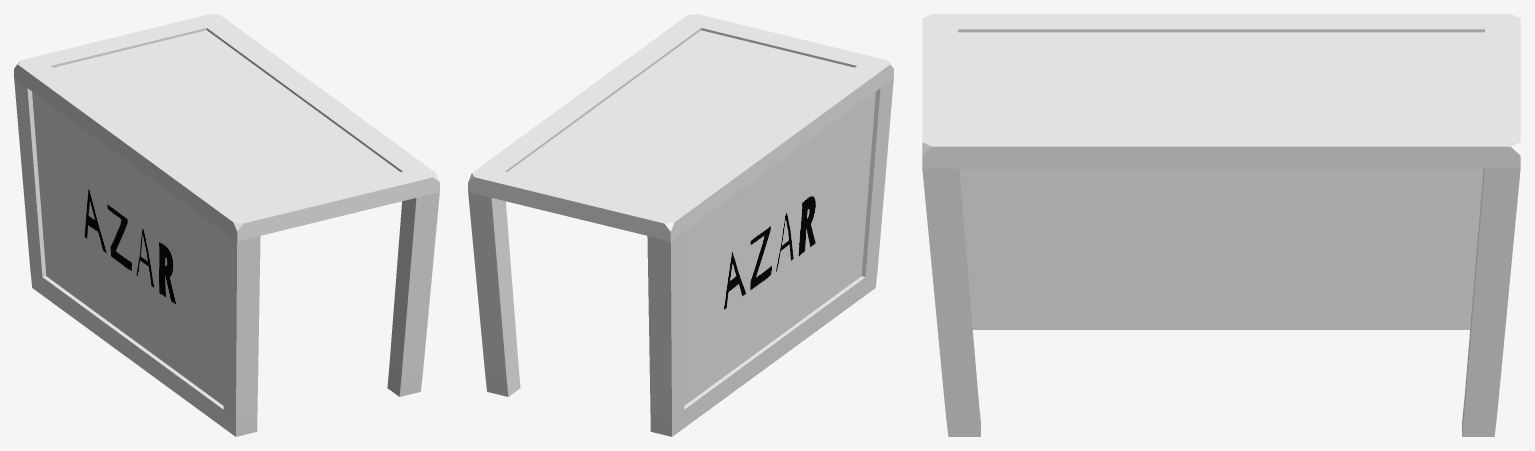
The model's file is cashier_table.fbx.
3 renders of one model, left to right at view 1: azimuth 30°, elevation 25°; view 2: azimuth 150°, elevation 25°; view 3: azimuth 270°, elevation 25°, orthographic. The views are drawn at different scales.
Visible parts, largest first — view 1: Cube.004; view 2: Cube.004; view 3: Cube.004.
Boxes of the visible parts, left/top/right/bottom form: Cube.004: left=14, top=14, right=439, bottom=436; Cube.004: left=468, top=14, right=893, bottom=436; Cube.004: left=922, top=14, right=1520, bottom=436.
Bounding box in the file's own units: 248 × 258 × 472.
Materials: 1 (1 with a texture image).
